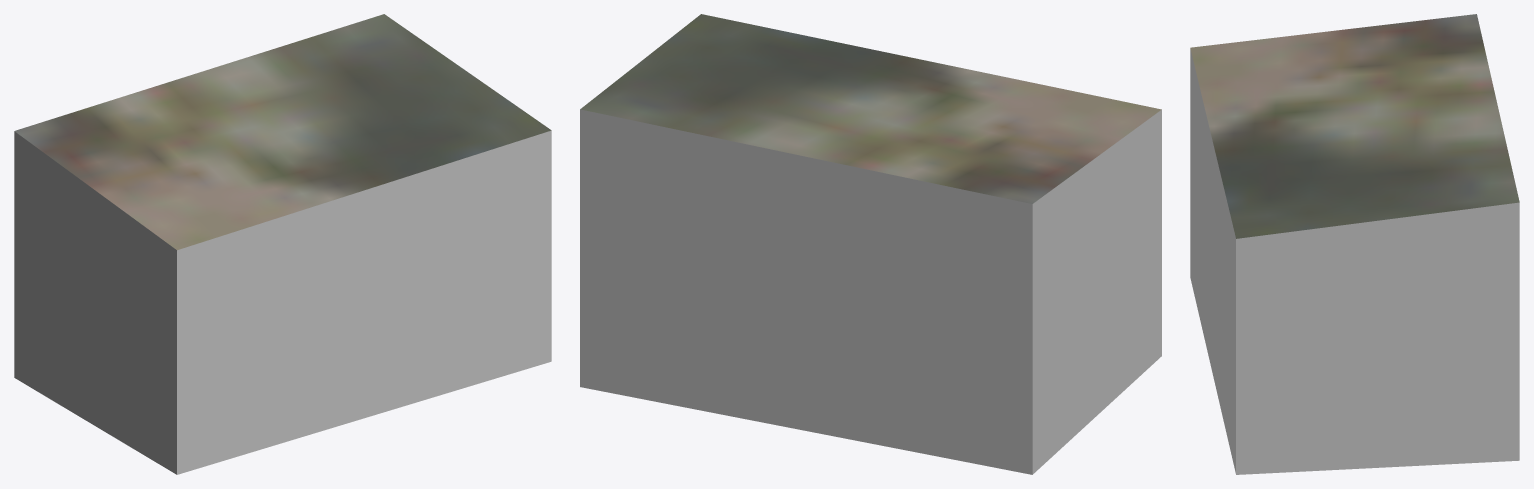
The model's file is DEBW_0010007Tx92.gltf.
The picture shows the model from 3 angles, left to right: view 1: azimuth 30°, elevation 25°; view 2: azimuth 150°, elevation 25°; view 3: azimuth 270°, elevation 25°; orthographic projection. The views are drawn at different scales.
Parts seen in each view (by area): view 1: Z_UP; view 2: Z_UP; view 3: Z_UP.
Boxes of the visible parts, box(x1,y1,x2,y2) form: Z_UP: box(14, 14, 551, 474); Z_UP: box(580, 14, 1161, 474); Z_UP: box(1190, 14, 1519, 474).
Size of the model in its own units: 4.85 by 2.79 by 3.23.
2 materials, 1 textured.
